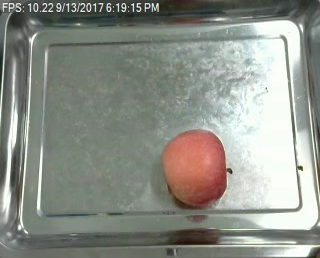Apple: (160, 128, 227, 210)
